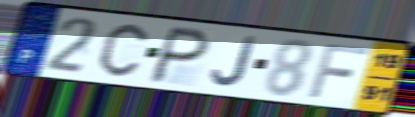2: (42, 16, 98, 74)
8: (263, 37, 317, 99)
C: (97, 22, 149, 79)
F: (307, 42, 372, 101)
J: (209, 35, 259, 89)
P: (145, 24, 214, 86)
